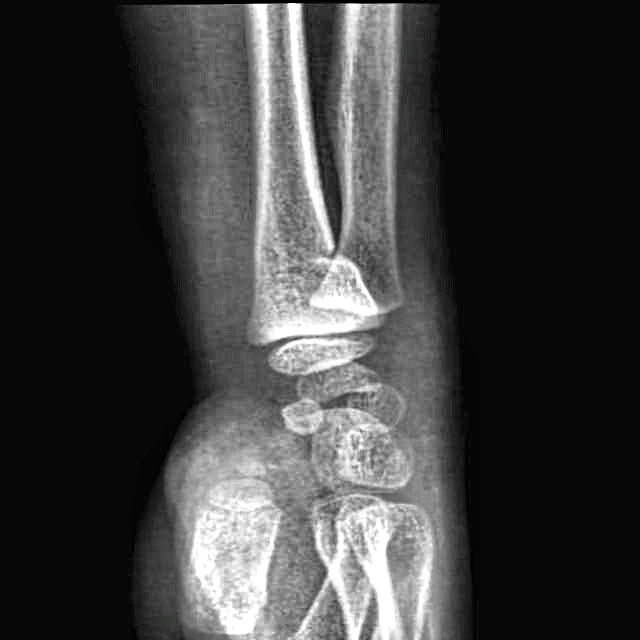Greenstick: (255, 220, 367, 288)
